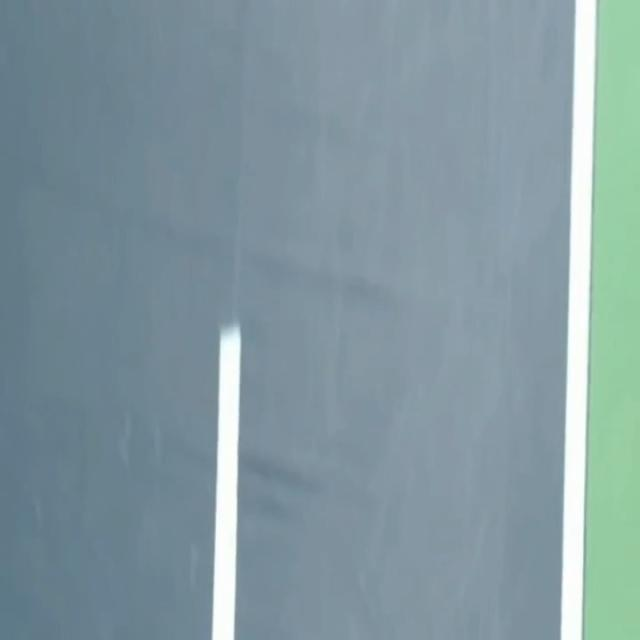center: (212, 324, 241, 639)
right: (560, 0, 596, 639)
